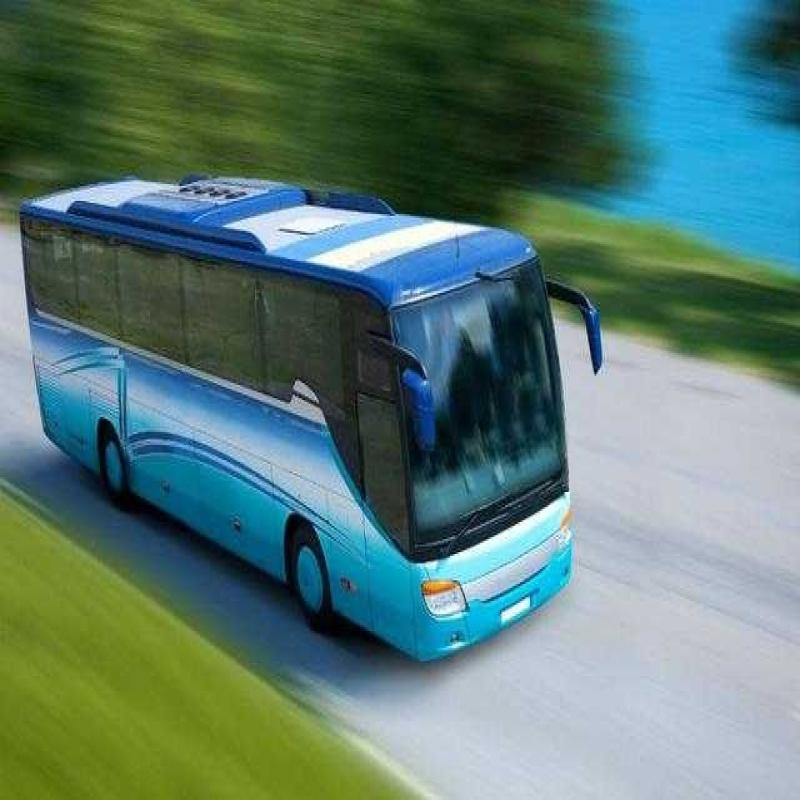bus: (12, 135, 634, 688)
